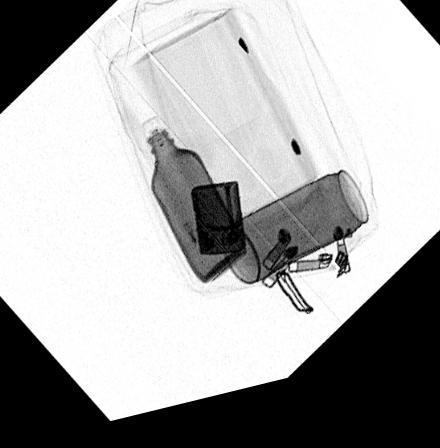Lighter: (189, 191, 247, 264)
